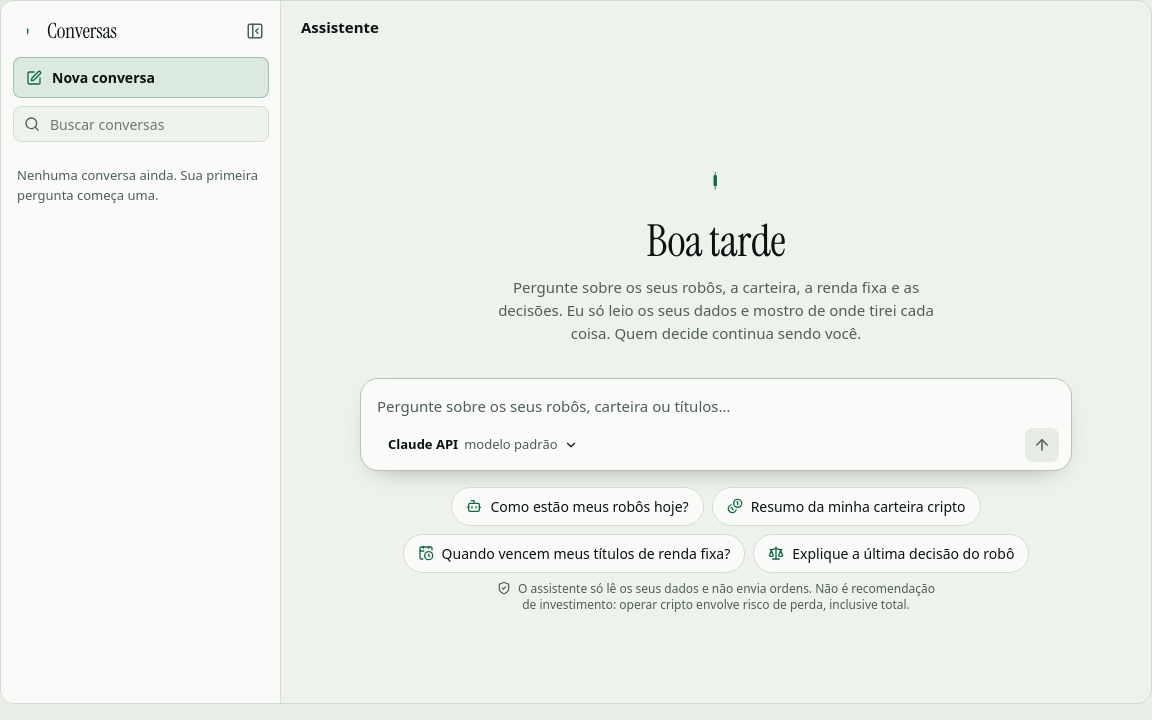
Test: Assistente: resposta em andamento › mostra a etapa rodando, troca Enviar por Parar, e Parar interrompe
The image size is (1152, 720).
In the text box named "Sua pergunta": (718, 406) [377,391,1059,422], type "Como estão meus robôs?"
Then press Enter
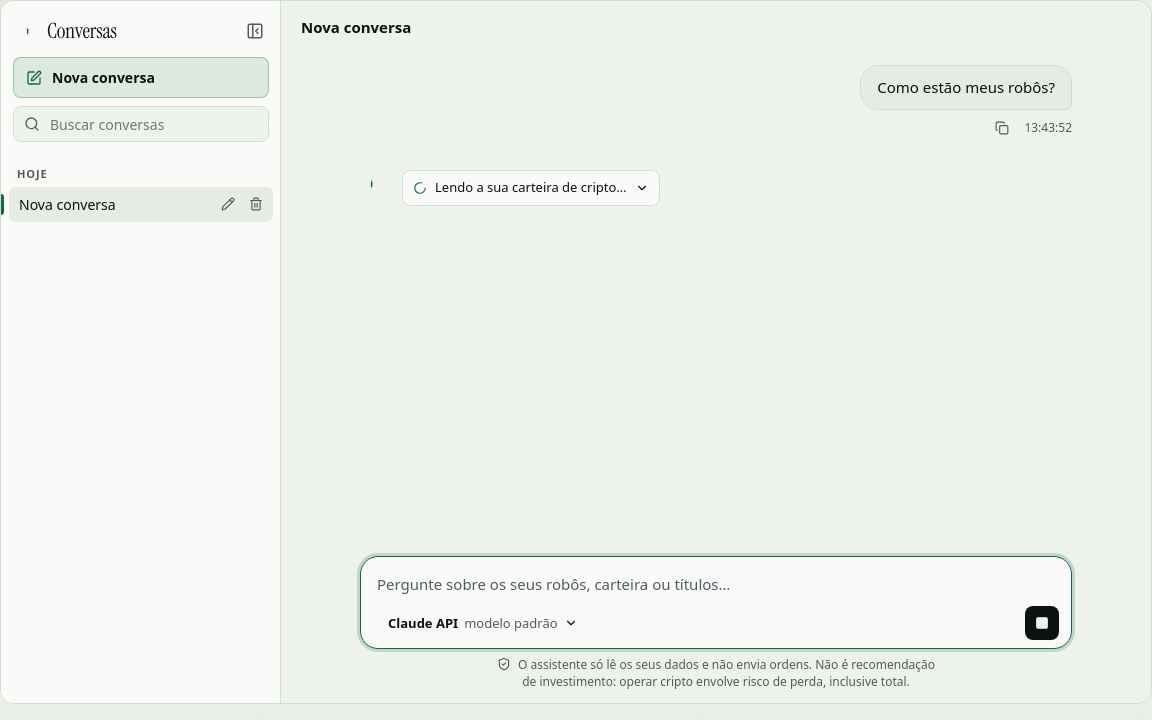
Now the text "Como estão meus robôs?" is shown, box [860,65,1072,110]
Now the button "Lendo a sua carteira de cripto…" is shown, box [402,170,660,206]
Click the button named "Parar a resposta": (1042, 623) [1025,606,1059,640]
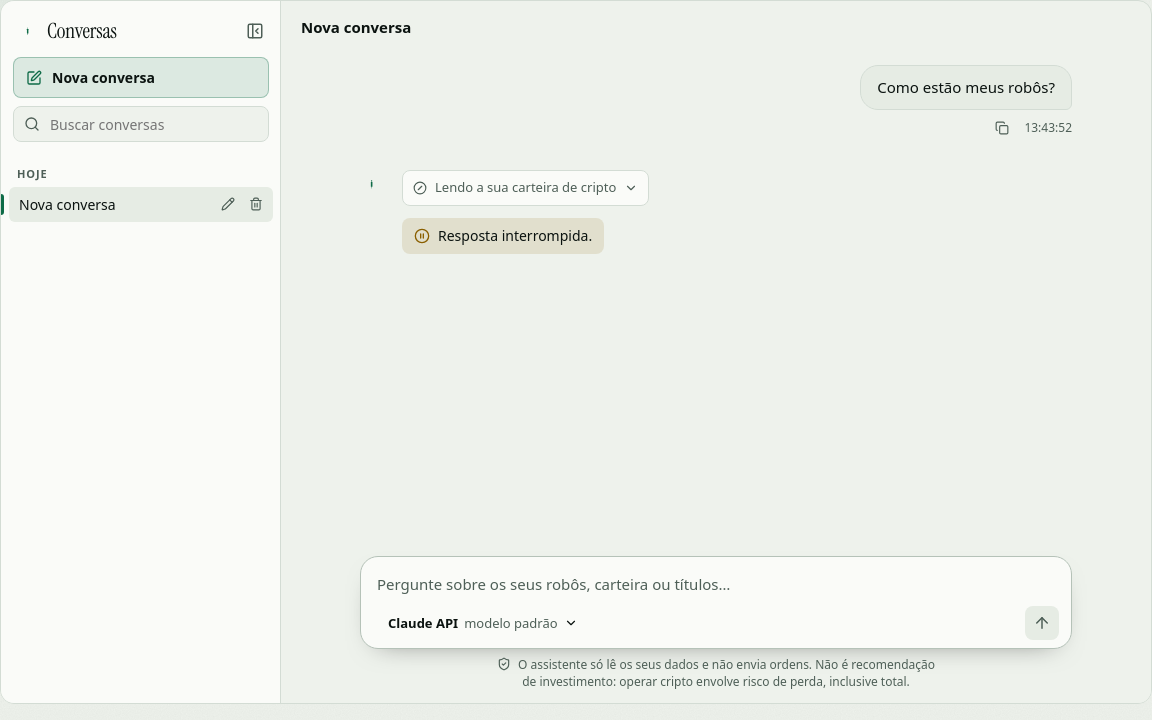
Now the text "Resposta interrompida." is shown, box [438,226,592,246]
Now the button named "Enviar" is shown, box [1025,606,1059,640]
